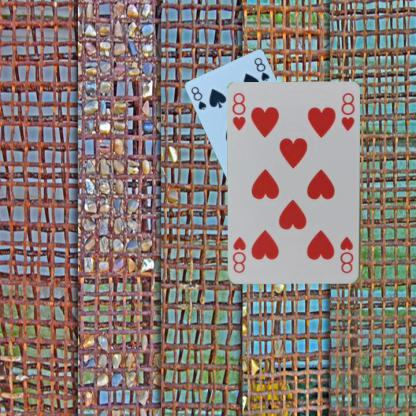8h: (337, 234, 355, 274), (230, 91, 247, 132)
8s: (188, 84, 208, 111)
